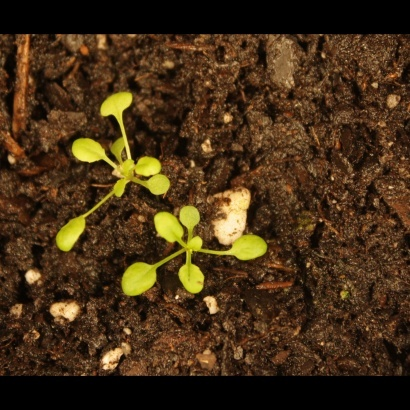leaf: (111, 263, 169, 300), (47, 213, 93, 258), (67, 131, 110, 175), (228, 233, 280, 265), (175, 261, 215, 300), (93, 91, 143, 120), (149, 210, 185, 247), (133, 153, 165, 181), (142, 173, 174, 199), (103, 130, 130, 159), (179, 206, 203, 230), (184, 236, 207, 259), (108, 176, 131, 199), (117, 155, 140, 178)
